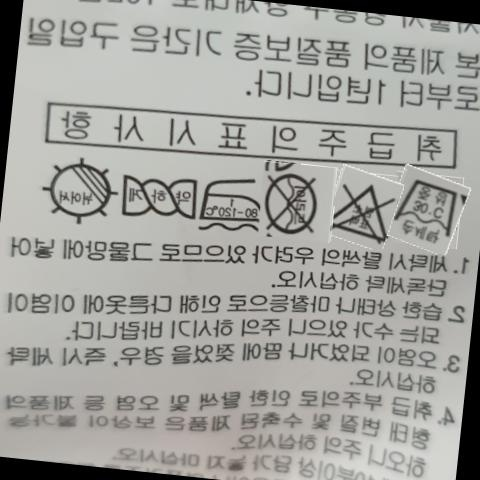DN_dry_clean: (263, 167, 324, 238)
dry_flat_in_shade: (43, 157, 111, 226)
hand_wash: (396, 170, 460, 248)
iron_low: (200, 171, 264, 231)
non_chlorine_bleach: (331, 170, 390, 243)
wring: (116, 172, 203, 226)
